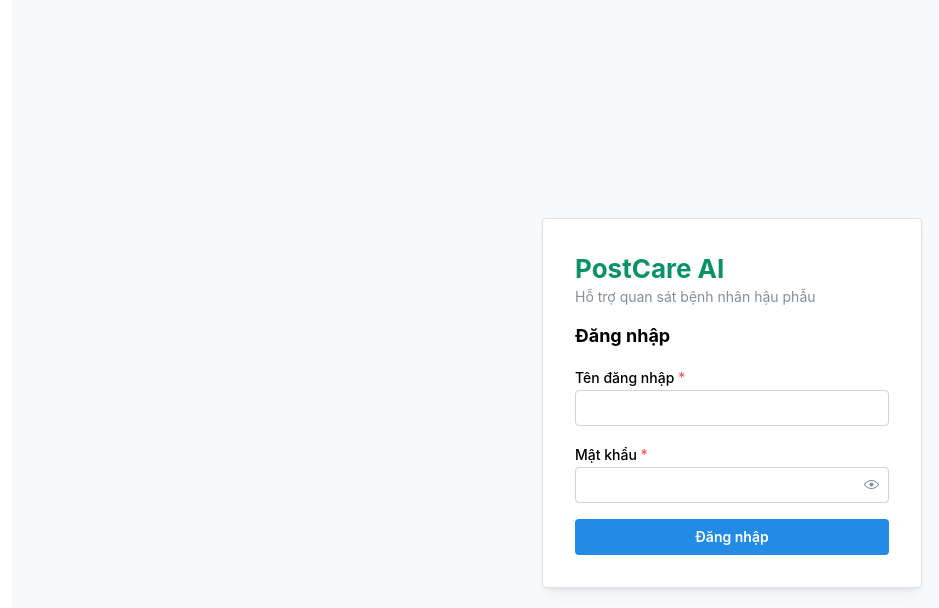
Test: LoginPage › stores the token and goes to the overview after login
In the field labelled "Tên đăng nhập": (732,408) [575,390,889,426], type "nurse"
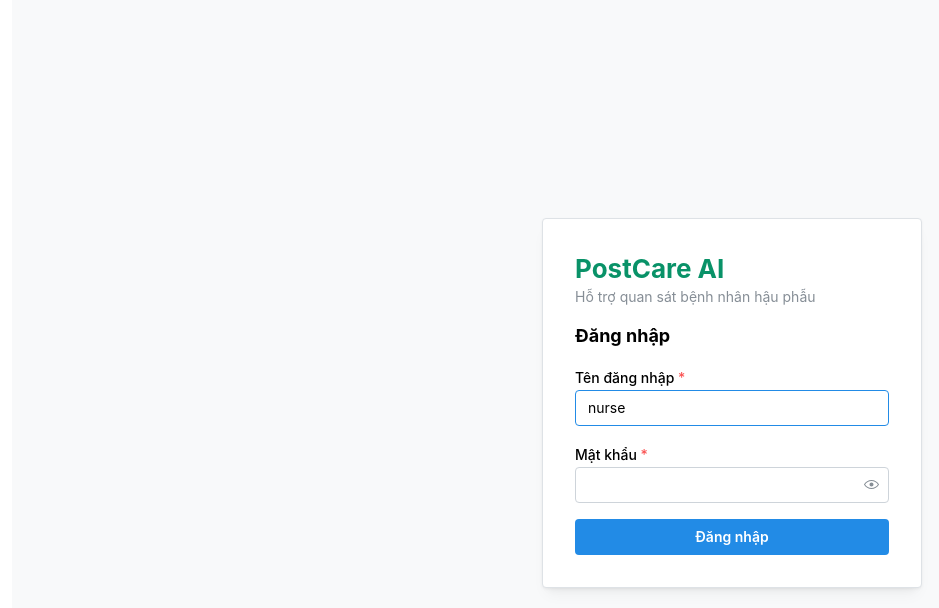
In the password field labelled "Mật khẩu": (732,484) [576,468,888,502], type "dung"
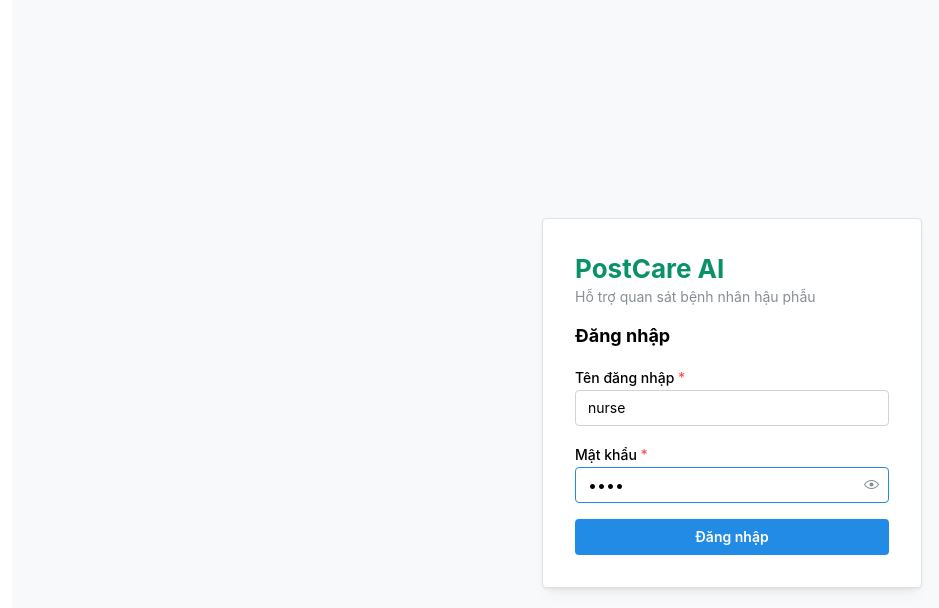
Click the button "Đăng nhập": (732,536) [575,518,889,554]
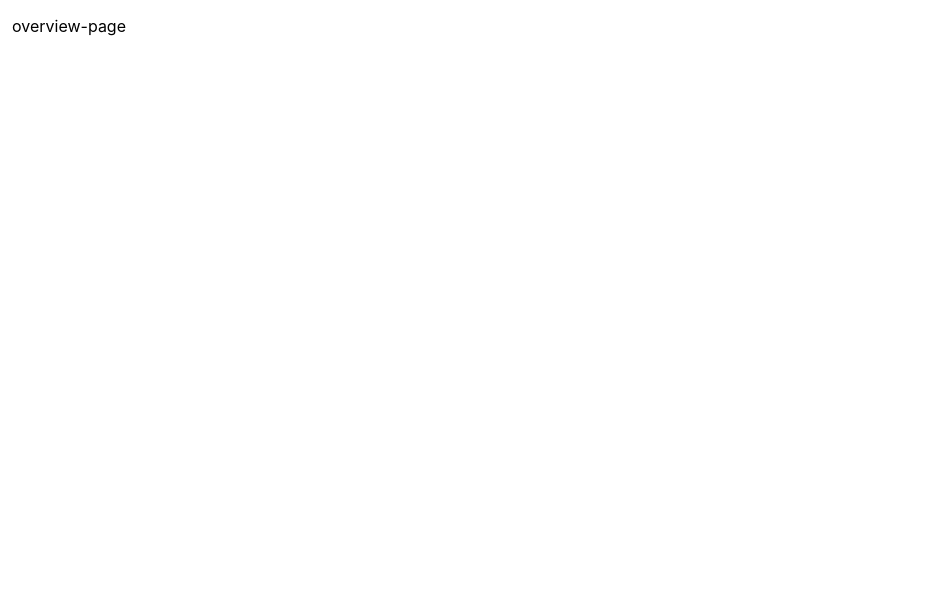
Result: the text "overview-page" is shown at [12,16,126,36]
